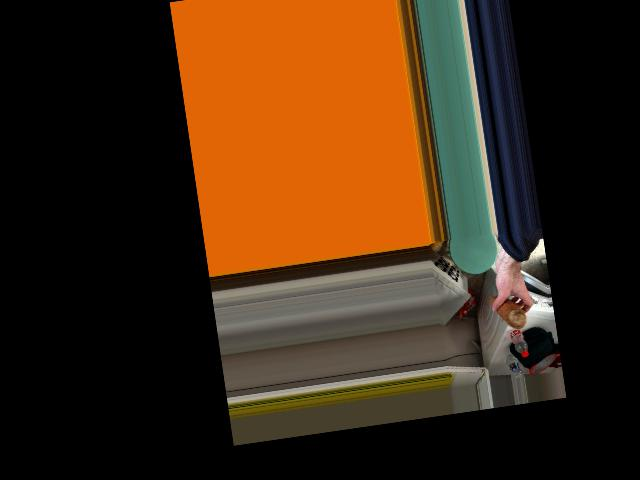sweet_potato: (488, 293, 525, 332)
